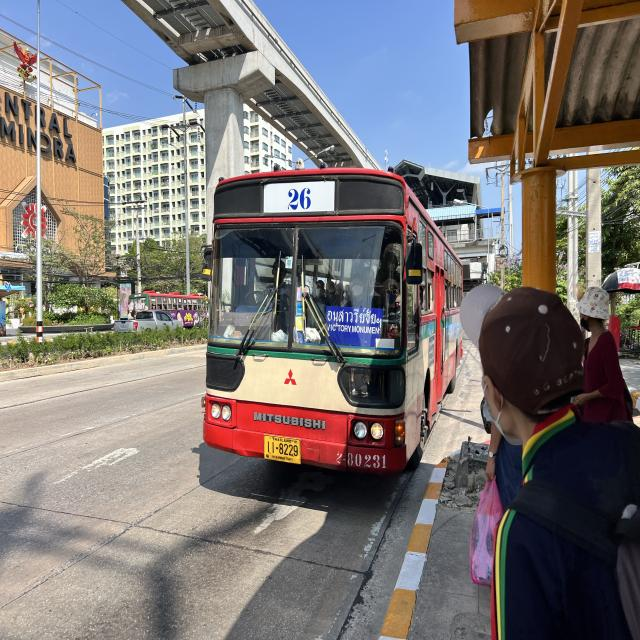BMTA-bus: (200, 168, 466, 478)
Bus-Line-Number: (262, 181, 336, 218)
Destination-Sign-Normal: (325, 306, 388, 352)
